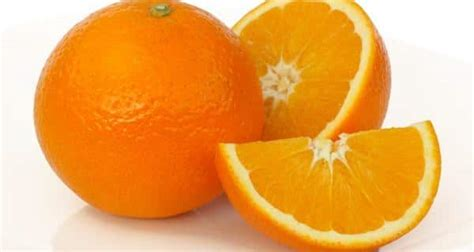orange: (31, 1, 268, 221)
